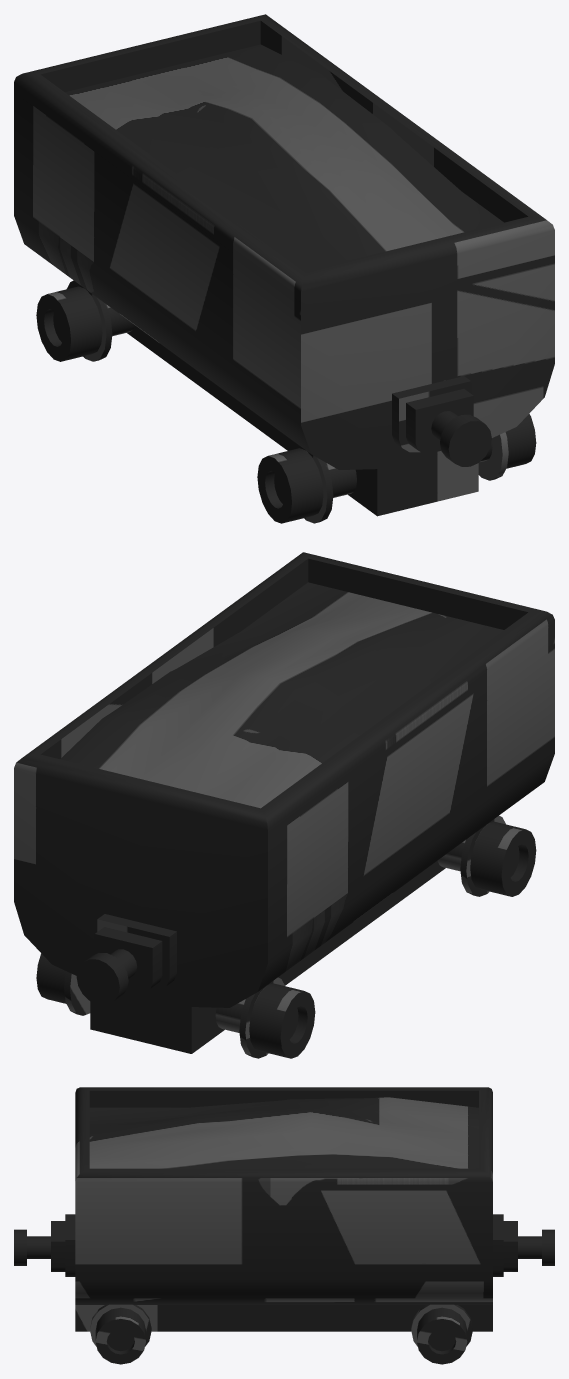
File: vagon.fbx
3 views of the same model, one above another, from view 1: azimuth 30°, elevation 25°; view 2: azimuth 150°, elevation 25°; view 3: azimuth 270°, elevation 25° (orthographic). The views are drawn at different scales.
Parts seen in each view (by area): view 1: Cube.001; view 2: Cube.001; view 3: Cube.001.
Boxes of the visible parts, x1,y1,x2,y2 form: Cube.001: [14, 14, 554, 523]; Cube.001: [14, 552, 554, 1058]; Cube.001: [14, 1087, 554, 1364].
Bounding box in the file's own units: 3.9 × 4.27 × 9.9.
